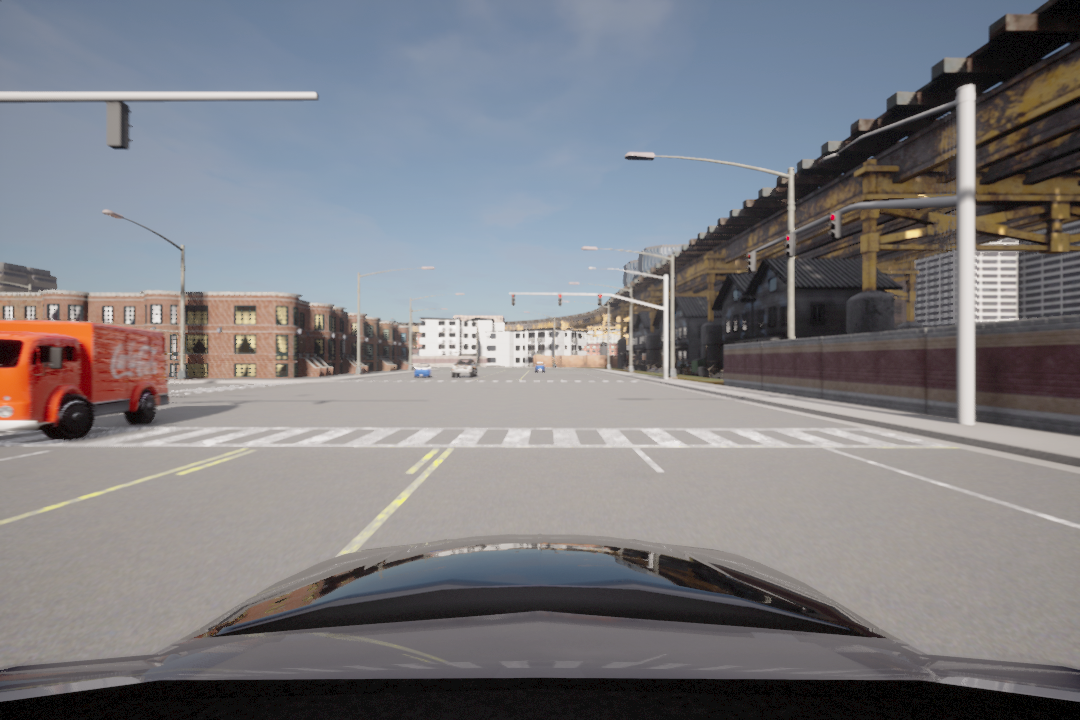TrafficLight: (827, 213, 838, 241), (744, 251, 757, 273), (784, 234, 793, 257), (509, 293, 521, 306), (596, 292, 603, 309), (556, 292, 562, 307)
walkside: (10, 424, 949, 454)
